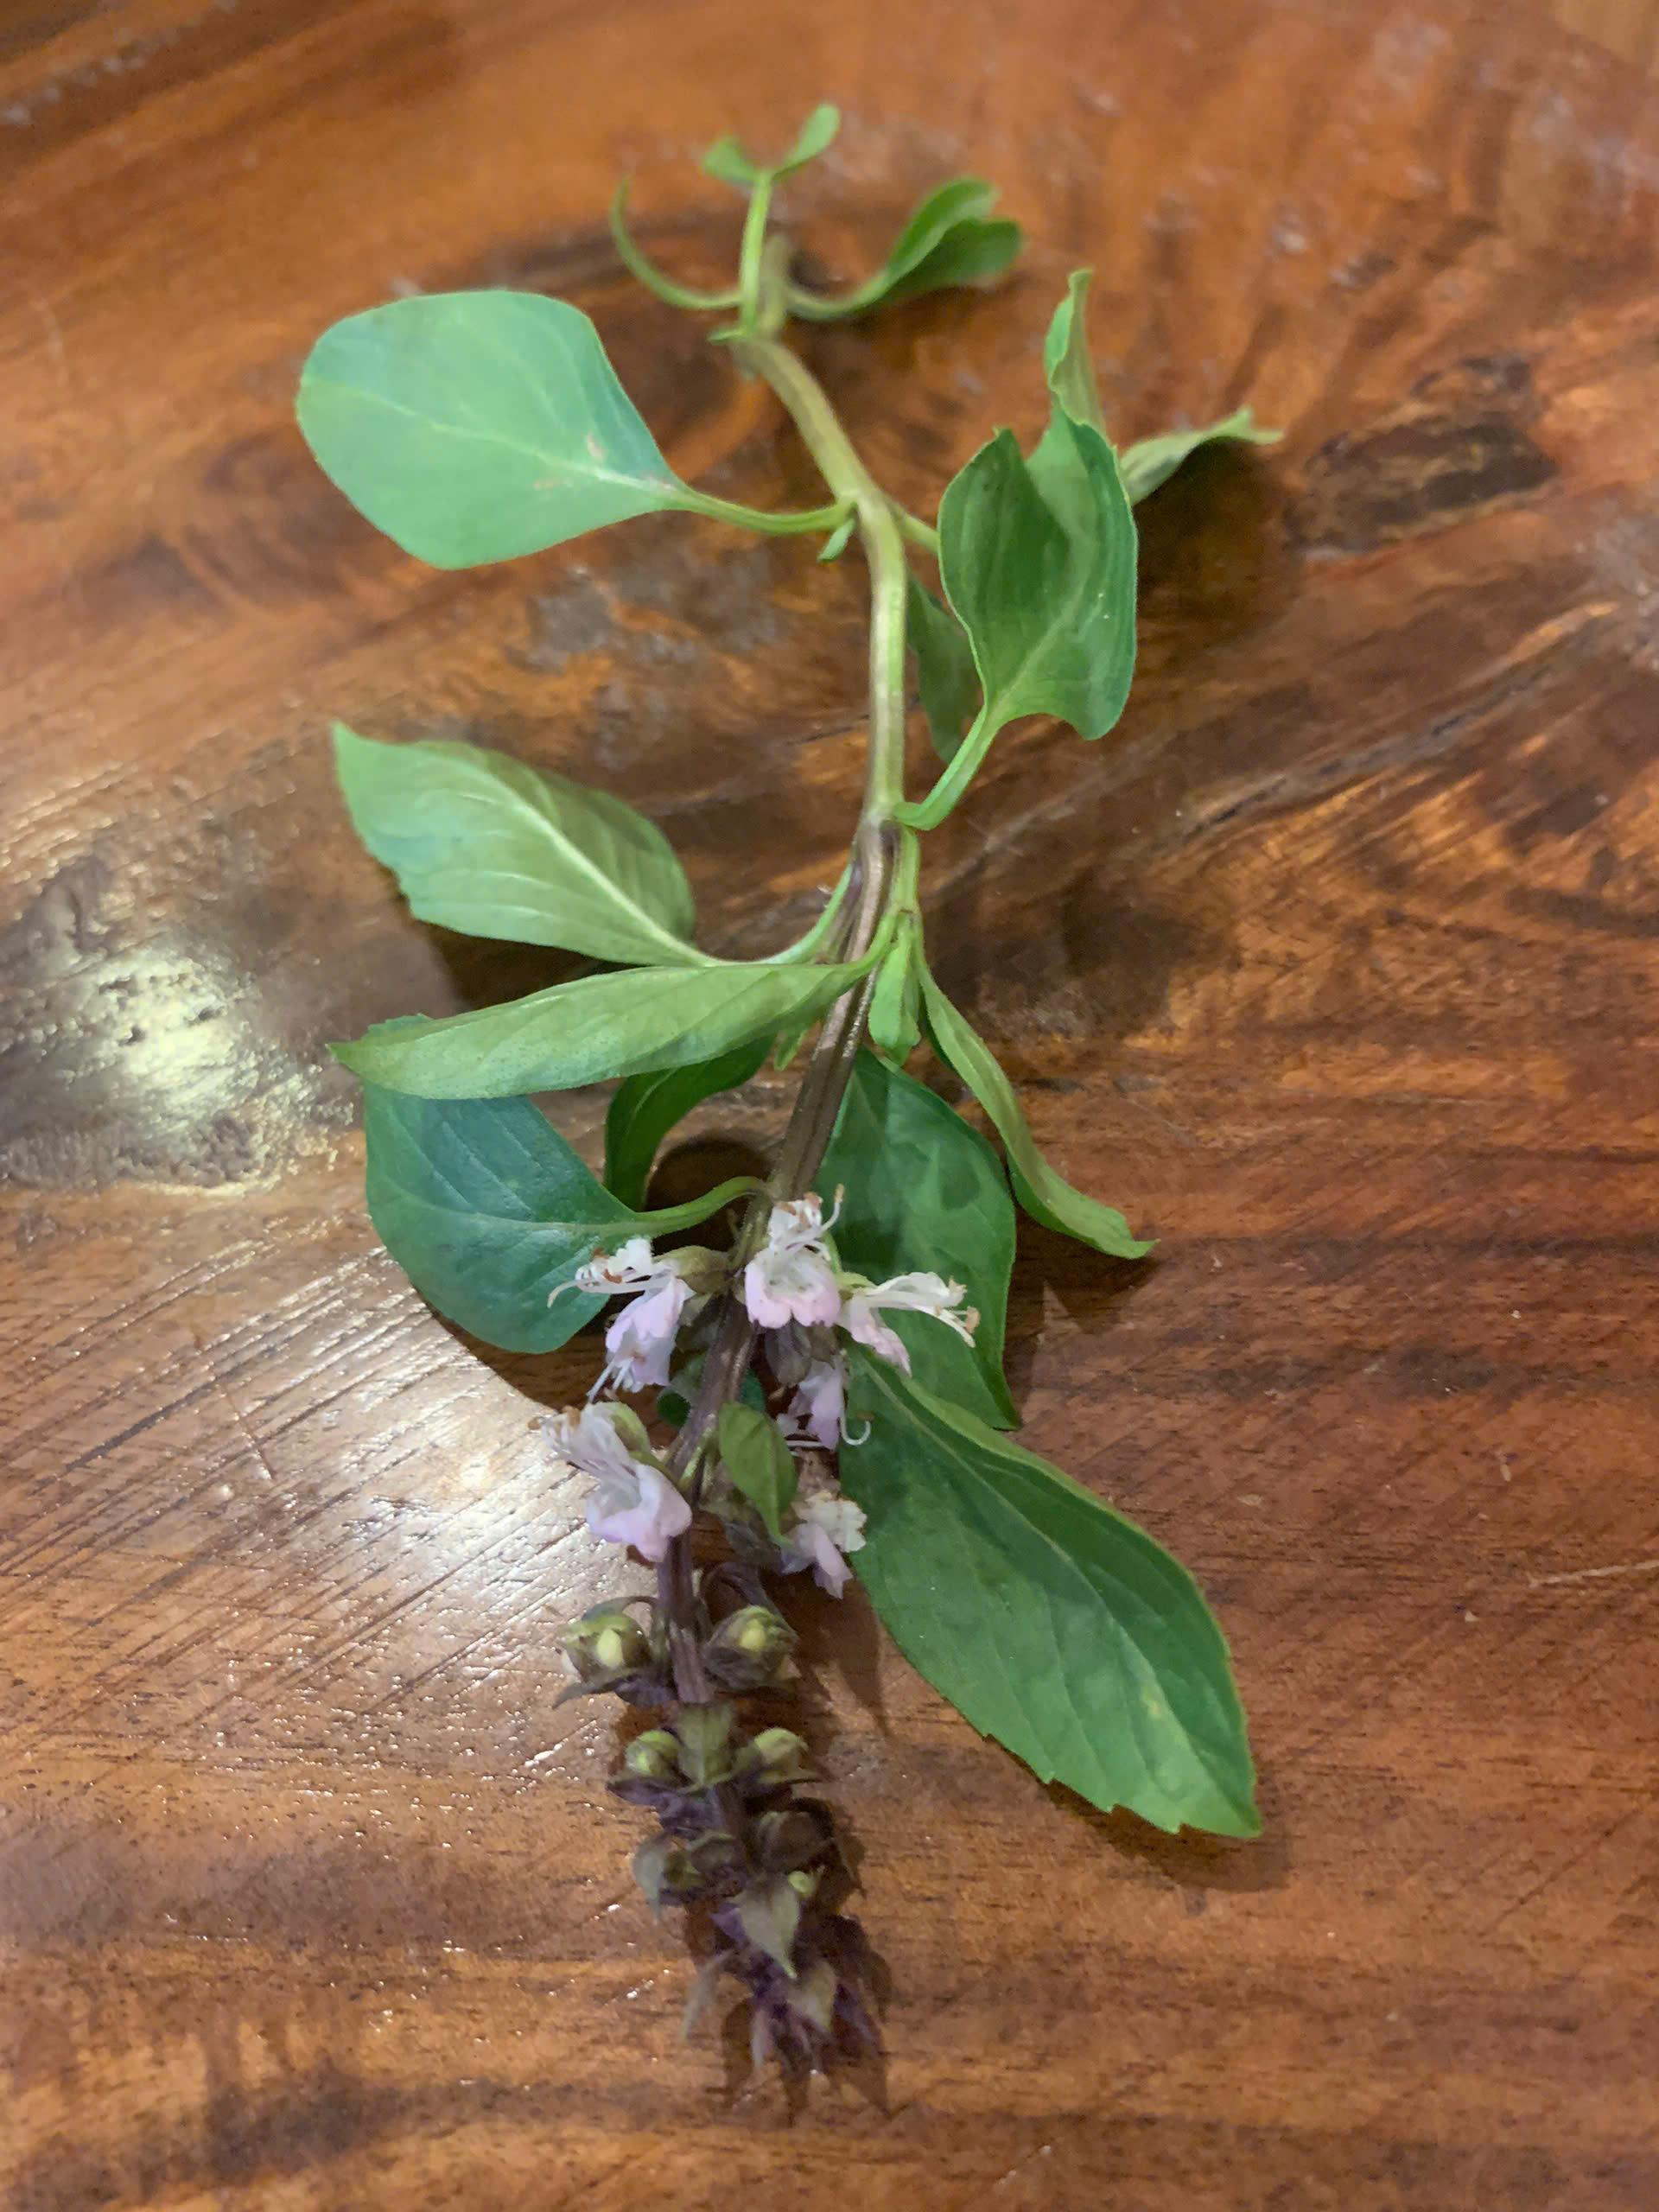Huu co: (307, 247, 1276, 1850)
